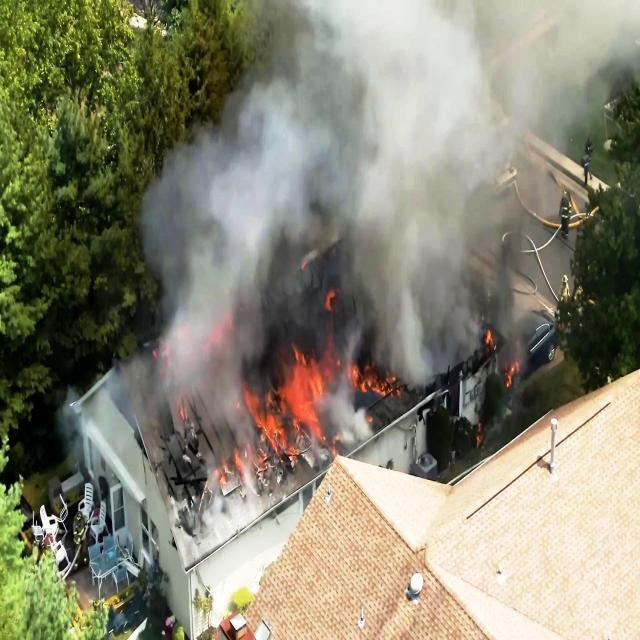Fire: (138, 286, 408, 488), (483, 318, 528, 399), (473, 416, 484, 452)
Smoke: (136, 0, 640, 287), (410, 292, 482, 391)
